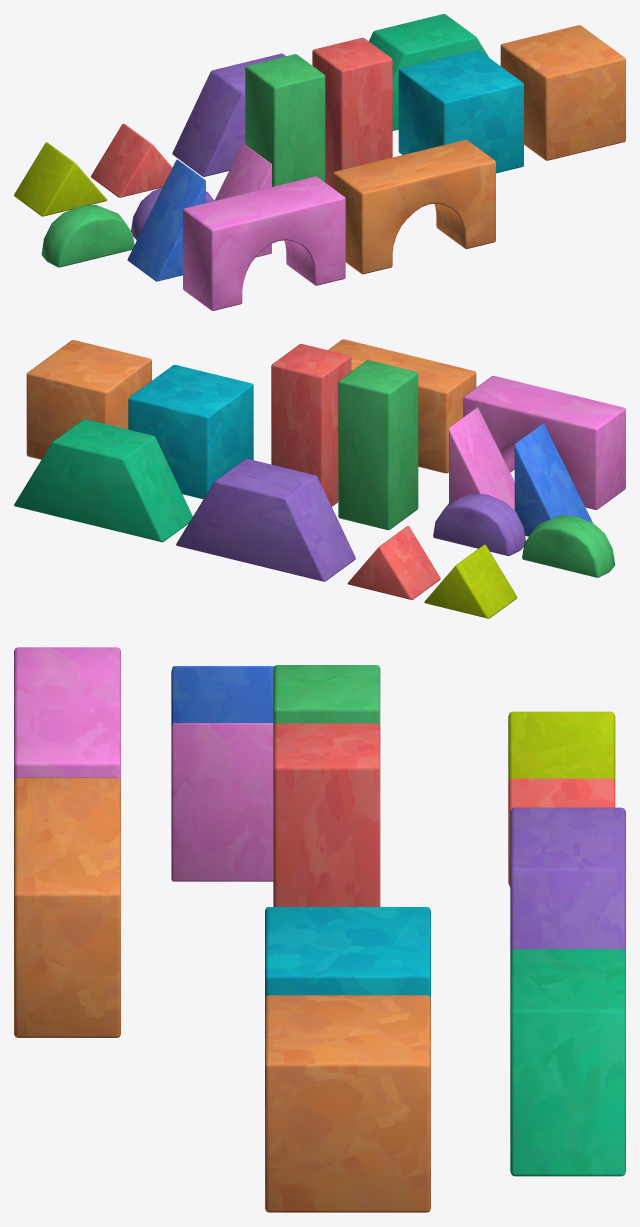
File: buildingblocks_2.fbx
3 renders of one model, top to bottom at view 1: azimuth 30°, elevation 25°; view 2: azimuth 150°, elevation 25°; view 3: azimuth 270°, elevation 25°, orthographic. The views are drawn at different scales.
Parts seen in each view (by area): view 1: BuildingBlocks_2_.010, BuildingBlocks_2_.006, BuildingBlocks_2_.013, BuildingBlocks_2_.003, BuildingBlocks_2_.011, BuildingBlocks_2_.002, BuildingBlocks_2_.012, BuildingBlocks_2_.009, BuildingBlocks_2_, BuildingBlocks_2_.008, BuildingBlocks_2_.001, BuildingBlocks_2_.007 (+2 smaller); view 2: BuildingBlocks_2_.012, BuildingBlocks_2_, BuildingBlocks_2_.011, BuildingBlocks_2_.003, BuildingBlocks_2_.010, BuildingBlocks_2_.013, BuildingBlocks_2_.002, BuildingBlocks_2_.006, BuildingBlocks_2_.009, BuildingBlocks_2_.005, BuildingBlocks_2_.008, BuildingBlocks_2_.004 (+2 smaller); view 3: BuildingBlocks_2_.013, BuildingBlocks_2_.006, BuildingBlocks_2_, BuildingBlocks_2_.002, BuildingBlocks_2_.012, BuildingBlocks_2_.005, BuildingBlocks_2_.003, BuildingBlocks_2_.010, BuildingBlocks_2_.001, BuildingBlocks_2_.011, BuildingBlocks_2_.009, BuildingBlocks_2_.007.
Part boxes in pixels (bbox=[...]): BuildingBlocks_2_.010: bbox=[183, 176, 345, 310]; BuildingBlocks_2_.006: bbox=[333, 140, 495, 274]; BuildingBlocks_2_.013: bbox=[500, 25, 625, 160]; BuildingBlocks_2_.003: bbox=[398, 50, 523, 173]; BuildingBlocks_2_.011: bbox=[245, 54, 325, 186]; BuildingBlocks_2_.002: bbox=[312, 37, 392, 187]; BuildingBlocks_2_.012: bbox=[172, 53, 285, 176]; BuildingBlocks_2_.009: bbox=[127, 159, 205, 281]; BuildingBlocks_2_: bbox=[369, 14, 488, 130]; BuildingBlocks_2_.008: bbox=[41, 205, 134, 267]; BuildingBlocks_2_.001: bbox=[14, 142, 107, 216]; BuildingBlocks_2_.007: bbox=[91, 123, 172, 197]; BuildingBlocks_2_.012: bbox=[176, 458, 355, 581]; BuildingBlocks_2_: bbox=[14, 419, 192, 542]; BuildingBlocks_2_.011: bbox=[338, 360, 418, 530]; BuildingBlocks_2_.003: bbox=[128, 365, 253, 499]; BuildingBlocks_2_.010: bbox=[463, 376, 625, 509]; BuildingBlocks_2_.013: bbox=[26, 340, 151, 459]; BuildingBlocks_2_.002: bbox=[271, 344, 351, 506]; BuildingBlocks_2_.006: bbox=[328, 339, 476, 473]; BuildingBlocks_2_.009: bbox=[514, 423, 592, 536]; BuildingBlocks_2_.005: bbox=[449, 407, 514, 510]; BuildingBlocks_2_.008: bbox=[522, 515, 615, 577]; BuildingBlocks_2_.004: bbox=[433, 493, 525, 555]; BuildingBlocks_2_.013: bbox=[265, 995, 430, 1212]; BuildingBlocks_2_.006: bbox=[14, 777, 120, 1037]; BuildingBlocks_2_: bbox=[510, 949, 625, 1176]; BuildingBlocks_2_.002: bbox=[273, 723, 380, 906]; BuildingBlocks_2_.012: bbox=[510, 807, 625, 951]; BuildingBlocks_2_.005: bbox=[171, 723, 273, 881]; BuildingBlocks_2_.003: bbox=[265, 907, 430, 998]; BuildingBlocks_2_.010: bbox=[14, 647, 120, 780]; BuildingBlocks_2_.001: bbox=[508, 711, 615, 782]; BuildingBlocks_2_.011: bbox=[273, 665, 380, 726]; BuildingBlocks_2_.009: bbox=[171, 666, 274, 728]; BuildingBlocks_2_.007: bbox=[508, 778, 615, 886].
Bounding box in the file's own units: 1563 × 370 × 832.
